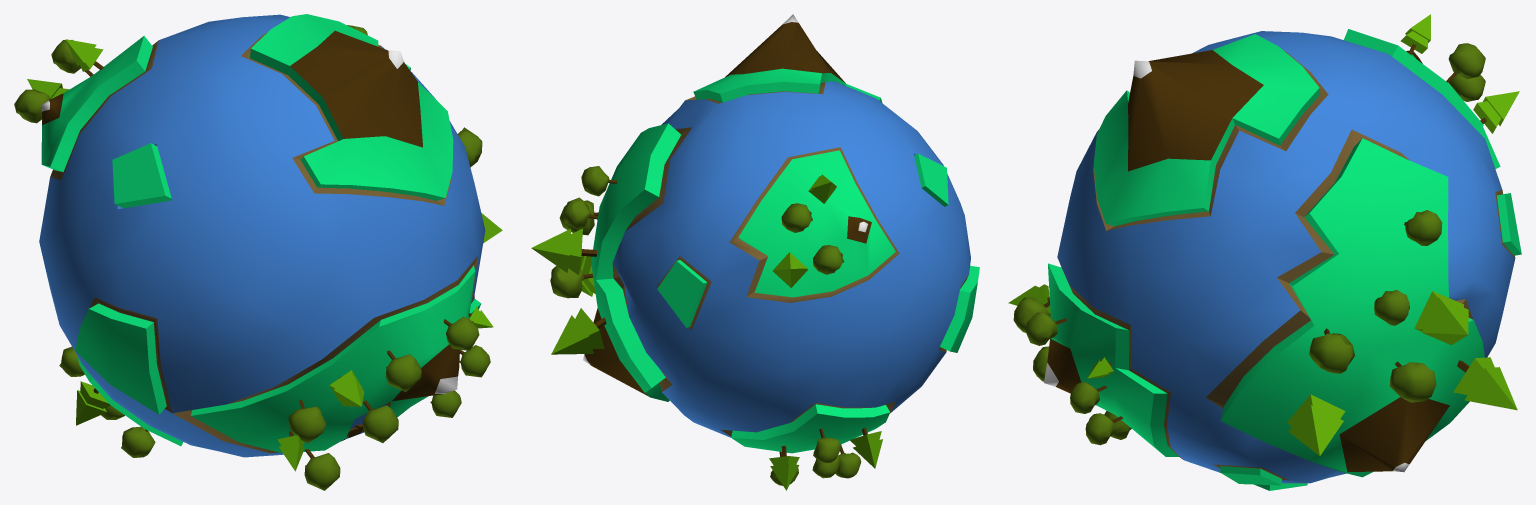
File: eARTH_SON.fbx
3 views of the same model, side by side, from view 1: azimuth 30°, elevation 25°; view 2: azimuth 150°, elevation 25°; view 3: azimuth 270°, elevation 25° (orthographic). The views are drawn at different scales.
Parts seen in each view (by area): view 1: polySurface29; view 2: polySurface29; view 3: polySurface29.
Boxes of the visible parts, bbox=[...] form: polySurface29: bbox=[14, 14, 502, 490]; polySurface29: bbox=[531, 14, 979, 490]; polySurface29: bbox=[1008, 14, 1521, 490].
Size of the model in its own units: 13.94 by 12.92 by 13.31.
